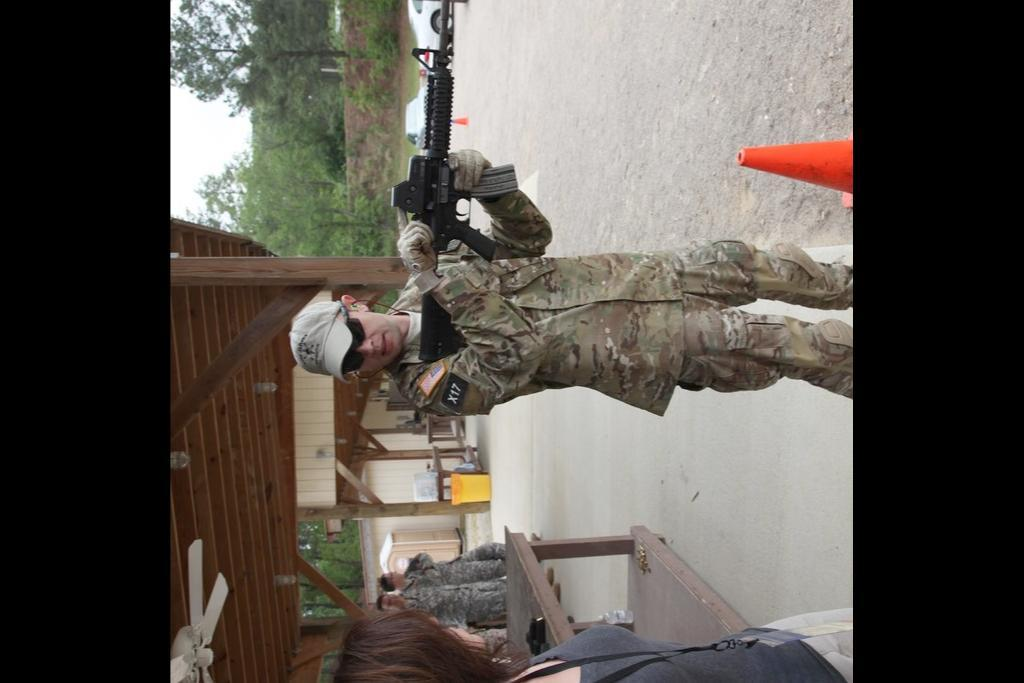gun: (392, 0, 517, 364)
